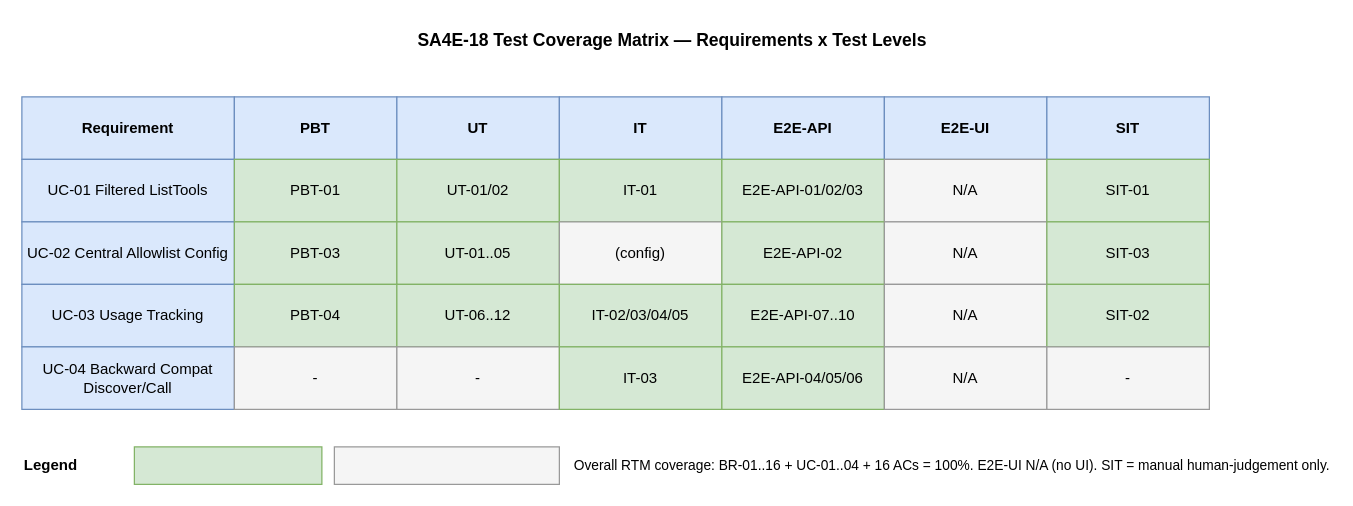
The diagram is 1353 pixels wide and 506 high, and some of its shapes have lost their labels. Here are the shapes that lost their labels. From the top down, the centre of each, then its label:
At point (227, 465): "Covered (test IDs)".
At point (446, 465): "Not applicable / no case".
